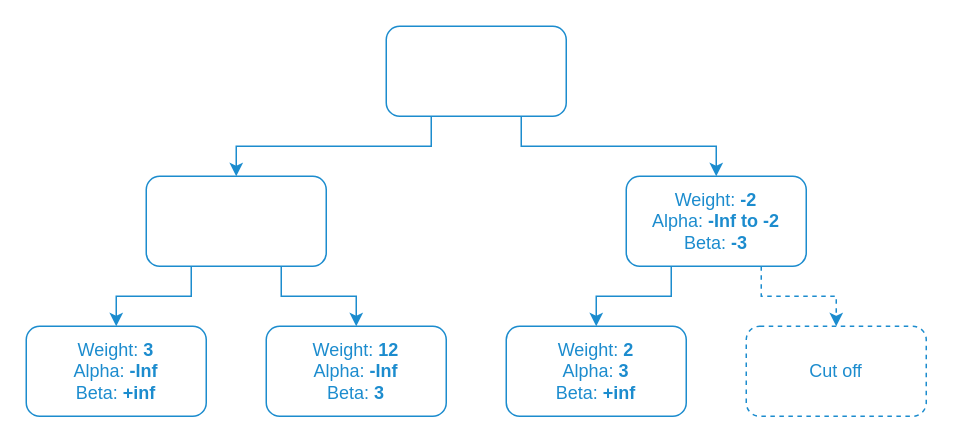
This 953x443 diagram has some shape labels left out. Each missing label, with the box of its shape:
Weight: -3 Alpha: -Inf to -3 Beta: +inf: (145, 175, 326, 266)
Weight: 3 Alpha: -Inf to 3 Beta: +inf: (385, 25, 566, 116)
